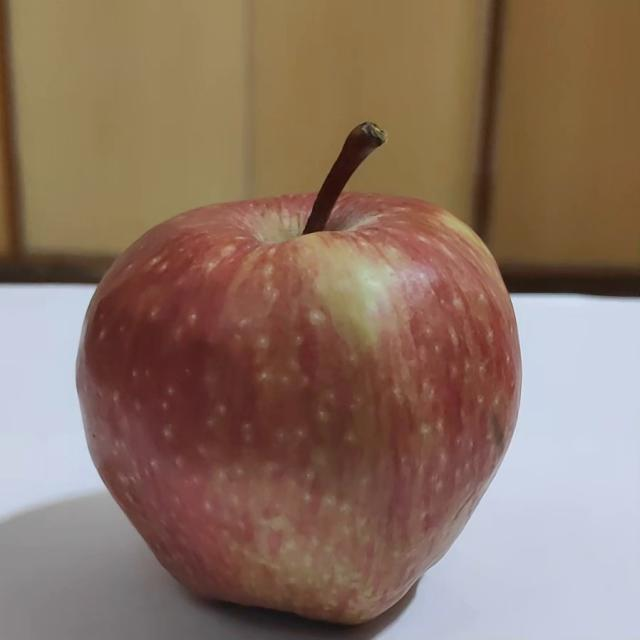apple: (74, 120, 526, 631)
